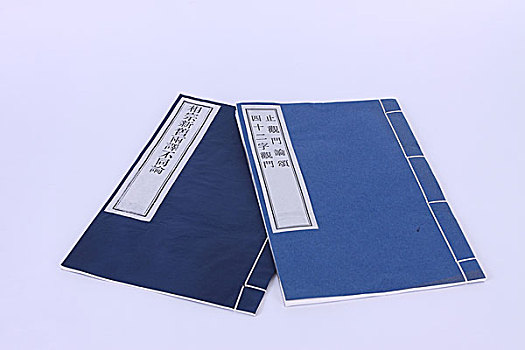book: (56, 87, 325, 316), (232, 97, 490, 306)
